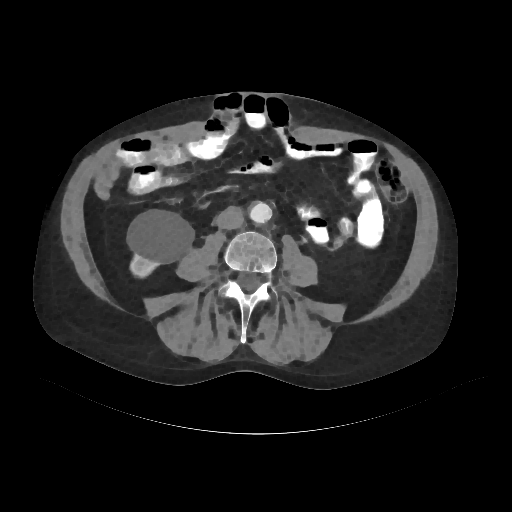Lesion: (125, 205, 194, 263)
